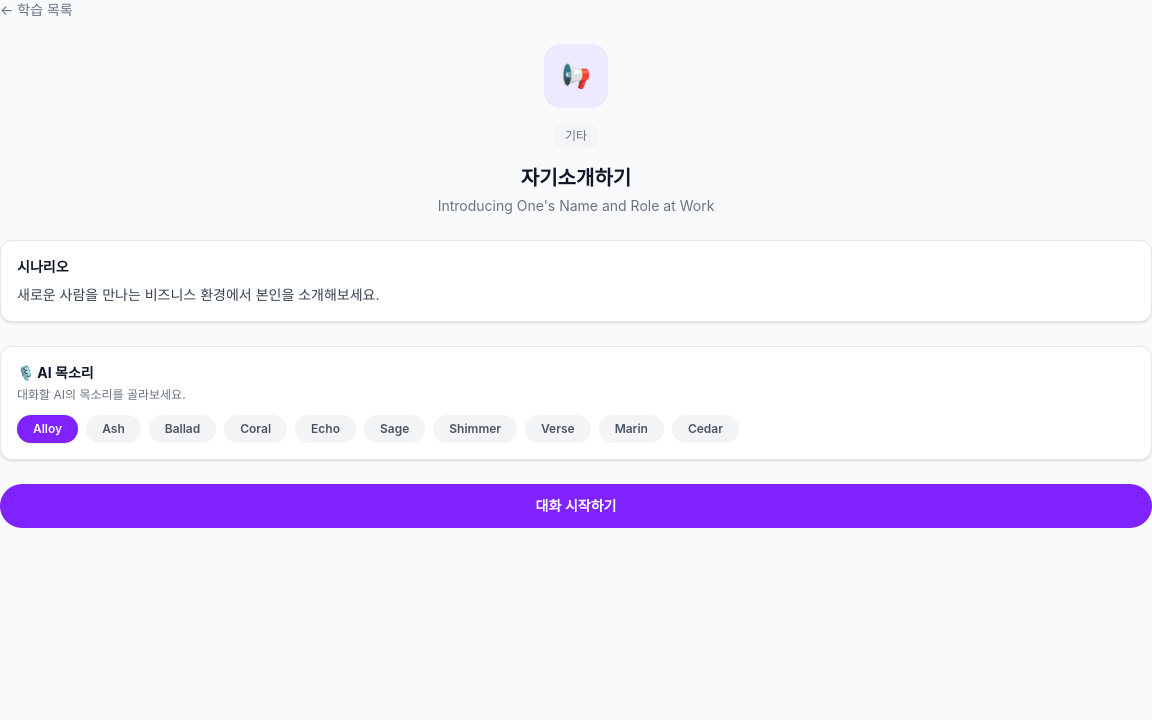
StudyIntroPage › 팝업에서 '닫기'를 누르면 팝업이 사라진다
The width and height of the screenshot is (1152, 720).
Click the button "대화 시작하기": (576, 506) 0,484 -> 1151,528
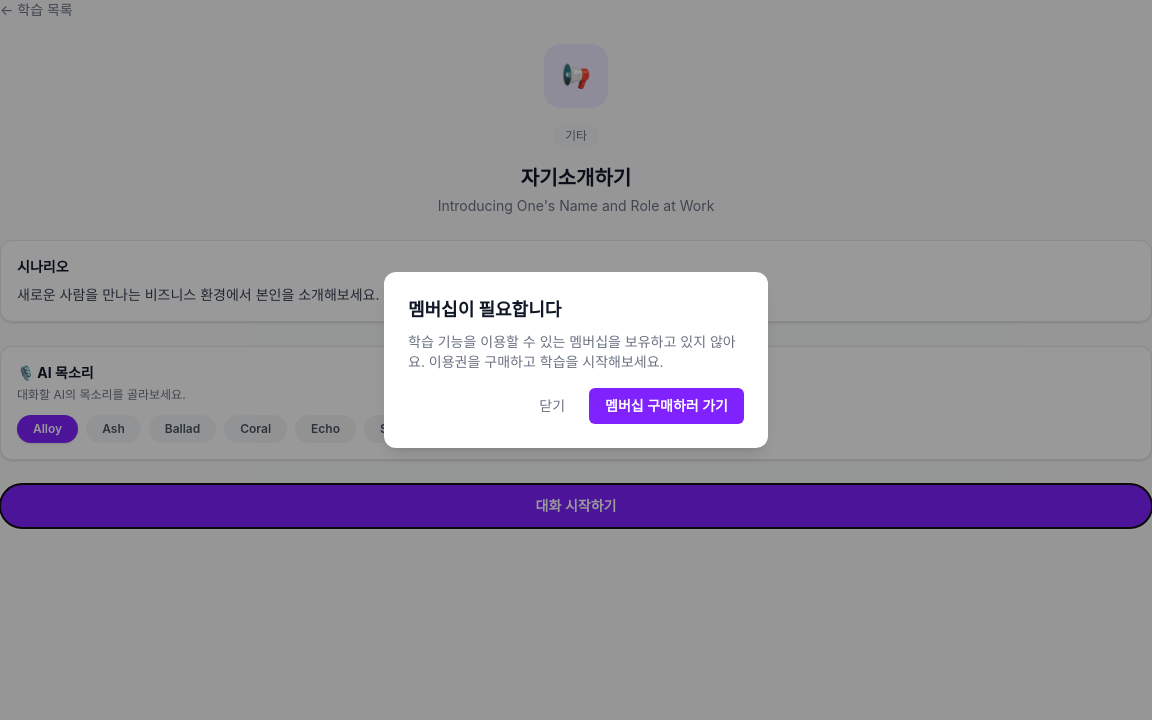
Click the button "닫기": (552, 406) 523,388 -> 581,424
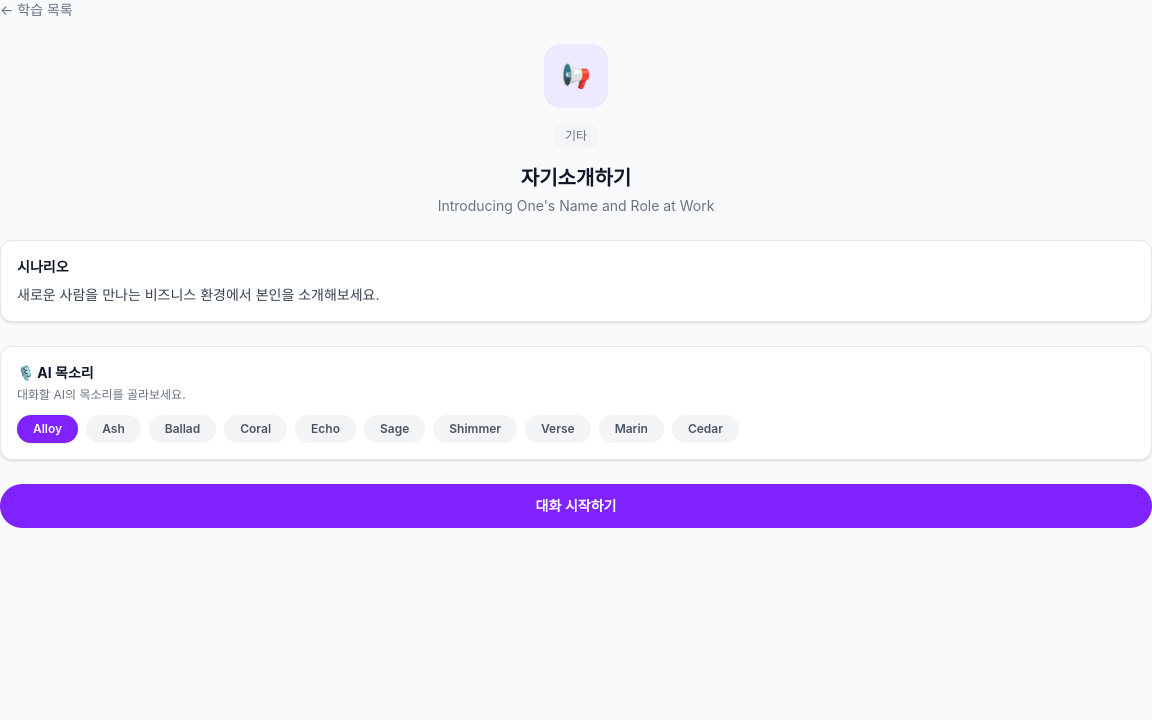
Expected: the heading "멤버십이 필요합니다" is gone
